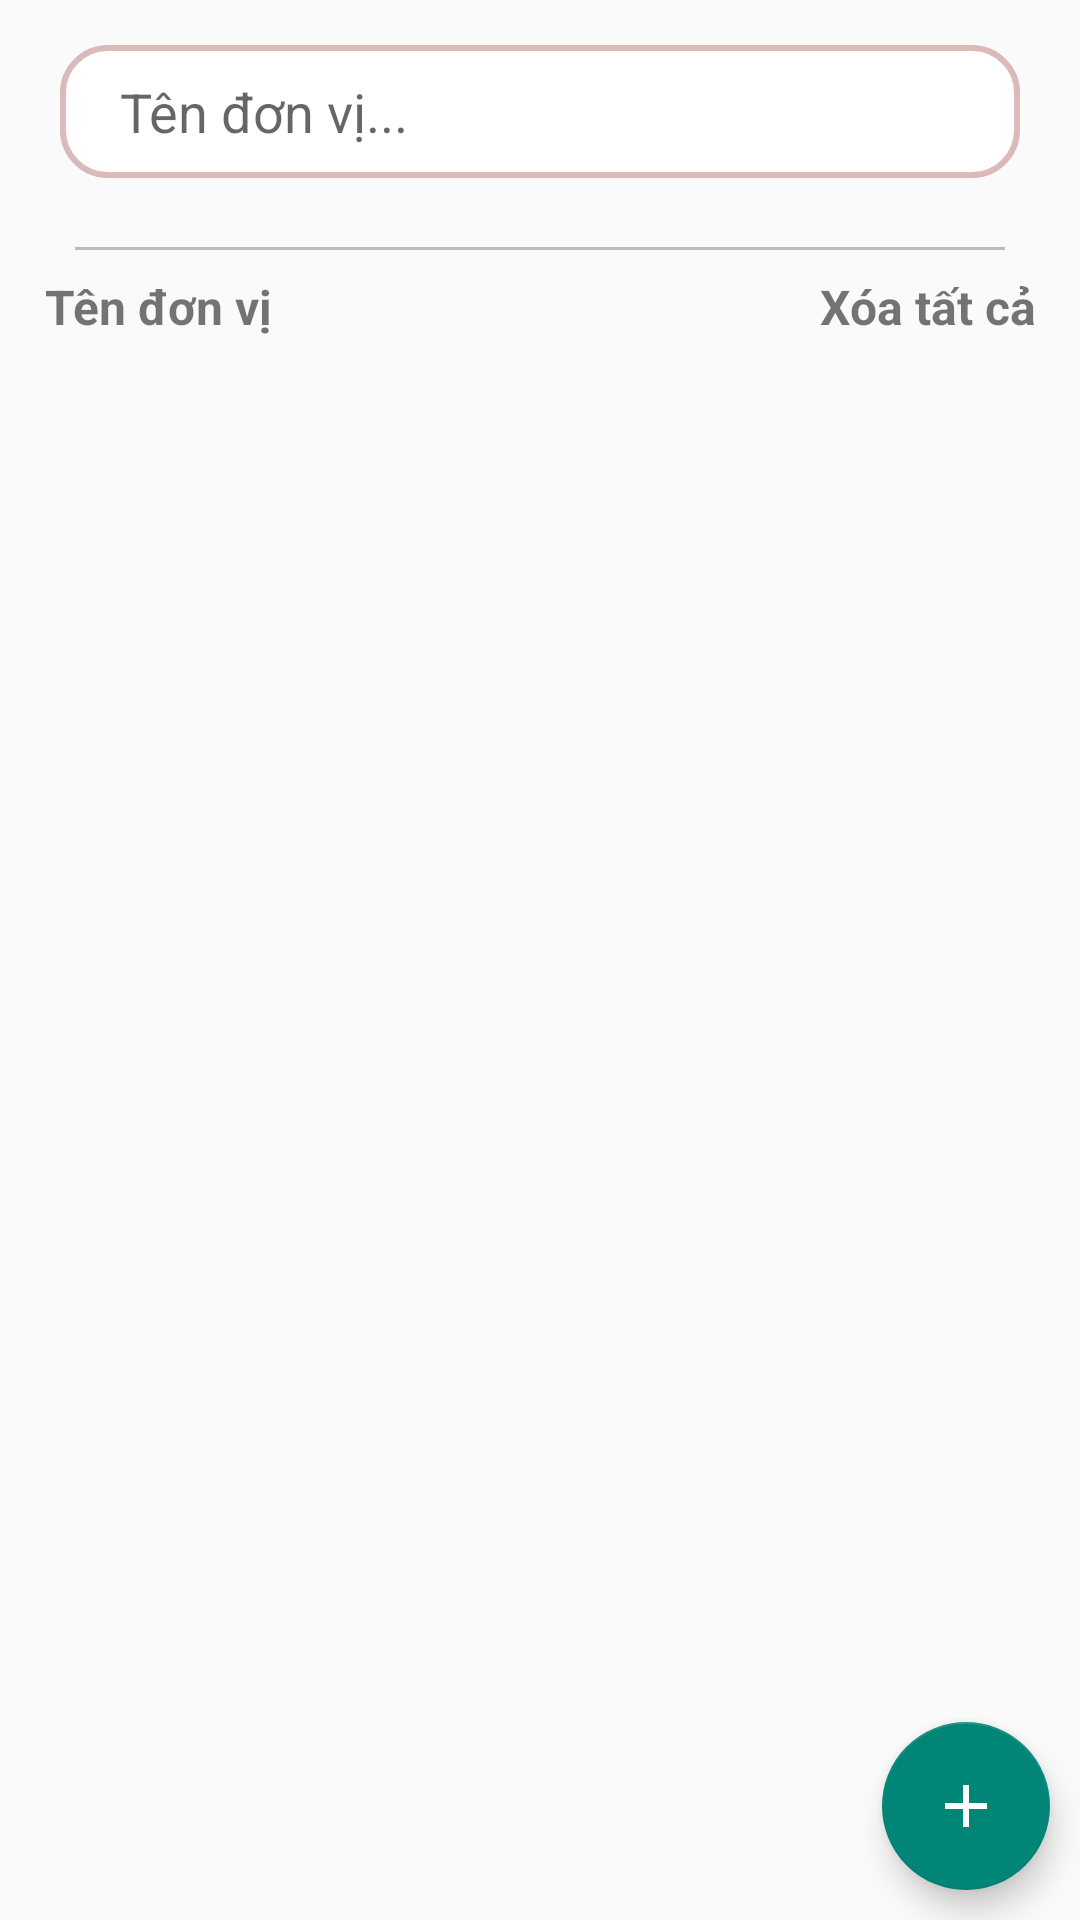

Named icons in this screenshot (1080 x 1920) and their centers, [x,y]:
add: [966,1806]
